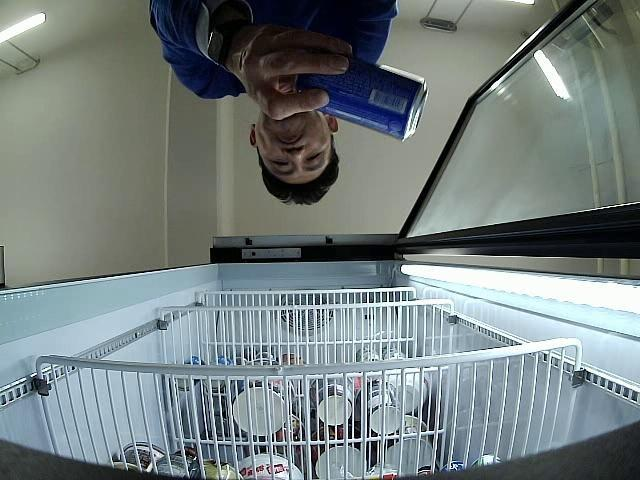13_pocariSweat: (293, 48, 428, 142)
